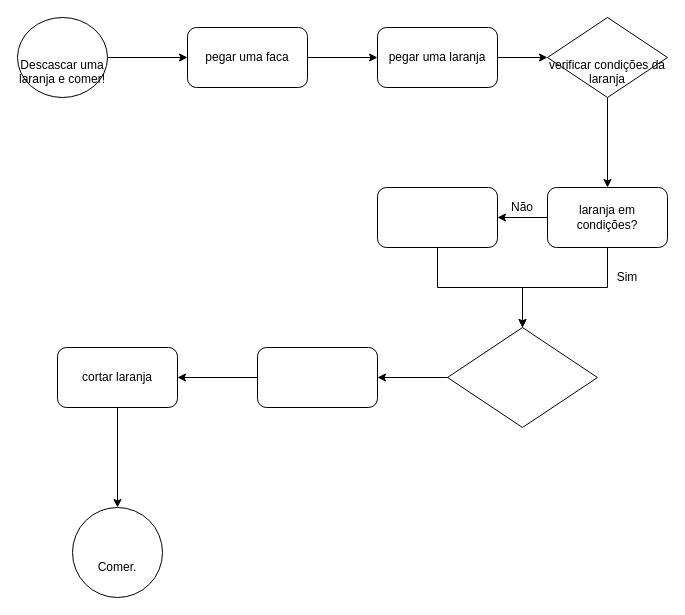
The diagram is 685 pixels wide and 615 high, and some of its shapes have lost their labels. Here are the shapes that lost their labels. From the top down, the centre of each, then its label:
At pixel 437 217: "pegar outra laranja em condições de ser consumida".
At pixel 317 377: "descascar a laranja".
At pixel 522 377: "pegar um recipiente para por a laranja e cascas".
